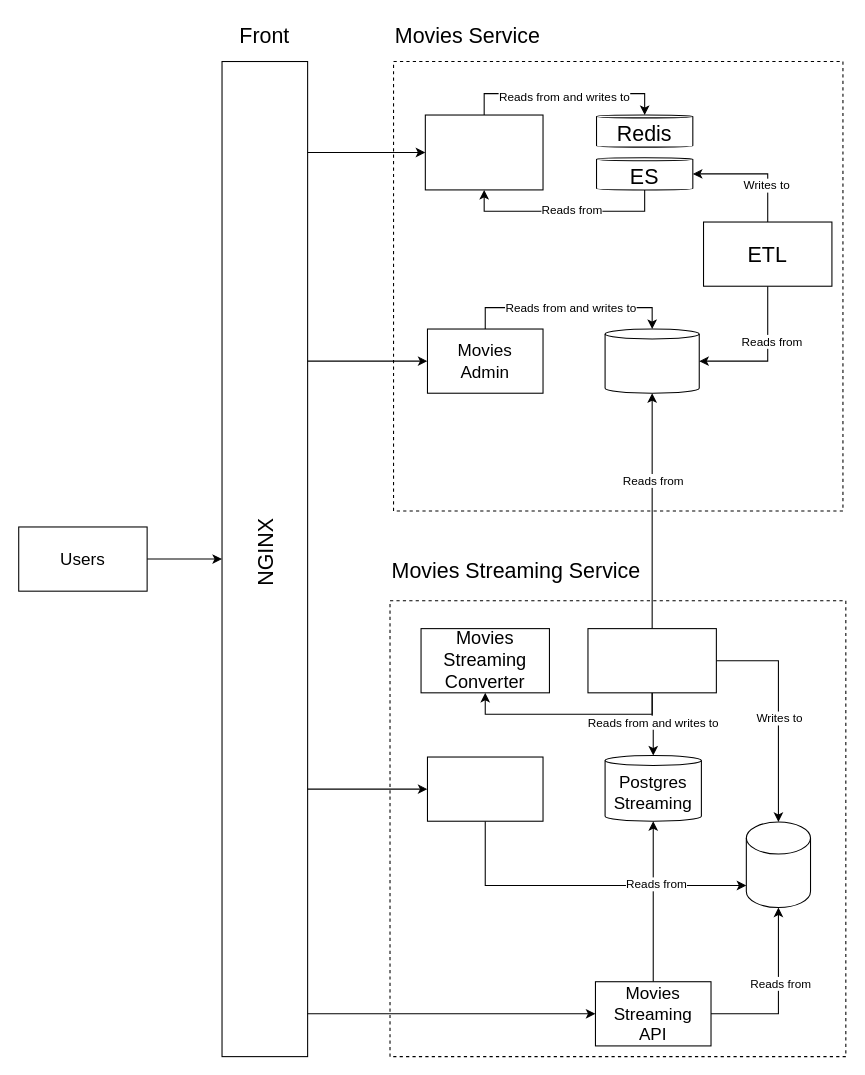
Image size: 865x1075. Some labels were removed from this diagram. The centre of each missing label's shape, as x and y in pixels:
"Airflow ETL" belongs at (651,660).
"Async API" belongs at (483,152).
"Movies Streaming Admin" belongs at (484,788).
"Postgres" belongs at (651,360).
"S3" belongs at (778,864).
